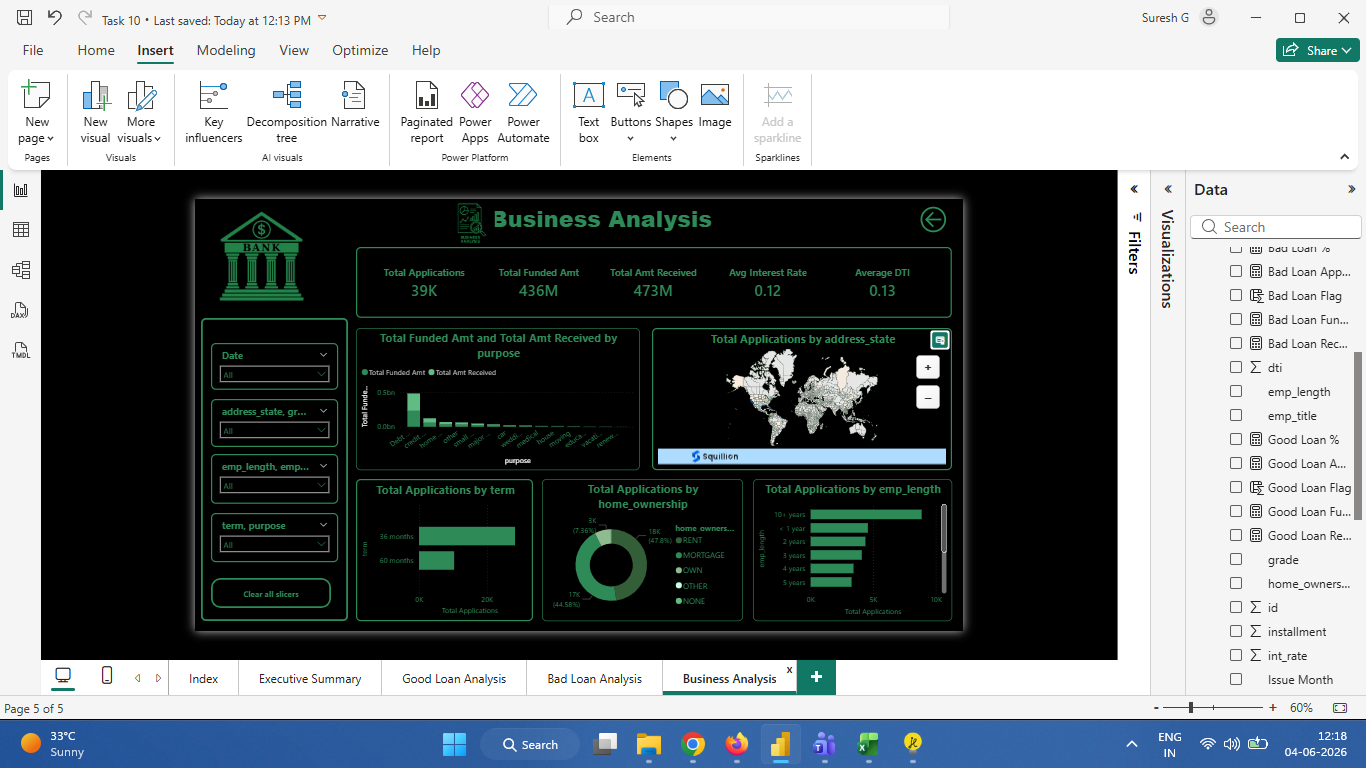

The page's visual inventory and layout, read from the dashboard file:
{"tool":"powerbi","page":{"name":"Business Analysis","canvas":[1280,720],"ordinal":4},"visuals":[{"type":"textbox","box":[10,0,898.3,75],"z":0},{"type":"image","box":[0,0,221.7,198.3],"z":1},{"type":"image","box":[411.7,0,96.7,80],"z":2},{"type":"MapBySquillion","fields":{"category":["financial_loan.address_state"],"value":["financial_loan.Total Loan Applications"]},"box":[761.7,215,500,236.7],"z":4},{"type":"clusteredBarChart","fields":{"Category":["financial_loan.term"],"Y":["financial_loan.Total Loan Applications"]},"box":[268.3,466.7,295,236.7],"z":5},{"type":"barChart","fields":{"Category":["financial_loan.emp_length"],"Y":["financial_loan.Total Loan Applications"]},"box":[930,466.7,331.7,236.7],"z":6},{"type":"lineStackedColumnComboChart","fields":{"Category":["financial_loan.purpose"],"Y":["financial_loan.Total Funded Amount","financial_loan.Total Amount Received"]},"box":[268.3,215,473.3,236.7],"z":7},{"type":"donutChart","fields":{"Category":["financial_loan.home_ownership"],"Y":["financial_loan.Total Loan Applications"]},"box":[578.3,466.7,335,236.7],"z":8},{"type":"cardVisual","fields":{"Data":["financial_loan.Total Applications","financial_loan.Total Funded Amt","financial_loan.Total Amt Received","financial_loan.Avg Interest Rate","financial_loan.Average DTI"]},"box":[268.3,80,993.3,118.3],"z":9},{"type":"textbox","box":[10,198.3,245,505],"z":14},{"type":"slicer","fields":{"Values":["DateTable.Date"]},"box":[26.7,240,211.7,78.3],"z":15},{"type":"slicer","fields":{"Values":["financial_loan.address_state","financial_loan.grade"]},"box":[26.7,333.3,211.7,80],"z":16},{"type":"slicer","fields":{"Values":["financial_loan.emp_length","financial_loan.emp_title"]},"box":[26.7,425,211.7,83.3],"z":17},{"type":"slicer","fields":{"Values":["financial_loan.term","financial_loan.purpose"]},"box":[26.7,523.3,211.7,81.7],"z":18},{"type":"actionButton","box":[26.7,631.7,200,50],"z":19},{"type":"actionButton","box":[1180,6.7,100,55],"z":20}]}

Visuals, with their boxes on the page's 1280x720 design canvas (x1, y1, x2, y2). These are canvas units, not pixel positions in the 1366x768 screenshot, which may show the page scaled, cropped or inside an application window:
textbox: l=10, t=0, r=908, b=75
image: l=0, t=0, r=222, b=198
image: l=412, t=0, r=508, b=80
MapBySquillion - financial_loan.address_state x financial_loan.Total Loan Applications: l=762, t=215, r=1262, b=452
clusteredBarChart - financial_loan.term x financial_loan.Total Loan Applications: l=268, t=467, r=563, b=703
barChart - financial_loan.emp_length x financial_loan.Total Loan Applications: l=930, t=467, r=1262, b=703
lineStackedColumnComboChart - financial_loan.purpose x financial_loan.Total Funded Amount: l=268, t=215, r=742, b=452
donutChart - financial_loan.home_ownership x financial_loan.Total Loan Applications: l=578, t=467, r=913, b=703
cardVisual - financial_loan.Total Applications x financial_loan.Total Funded Amt: l=268, t=80, r=1262, b=198
textbox: l=10, t=198, r=255, b=703
slicer - DateTable.Date: l=27, t=240, r=238, b=318
slicer - financial_loan.address_state x financial_loan.grade: l=27, t=333, r=238, b=413
slicer - financial_loan.emp_length x financial_loan.emp_title: l=27, t=425, r=238, b=508
slicer - financial_loan.term x financial_loan.purpose: l=27, t=523, r=238, b=605
actionButton: l=27, t=632, r=227, b=682
actionButton: l=1180, t=7, r=1280, b=62
